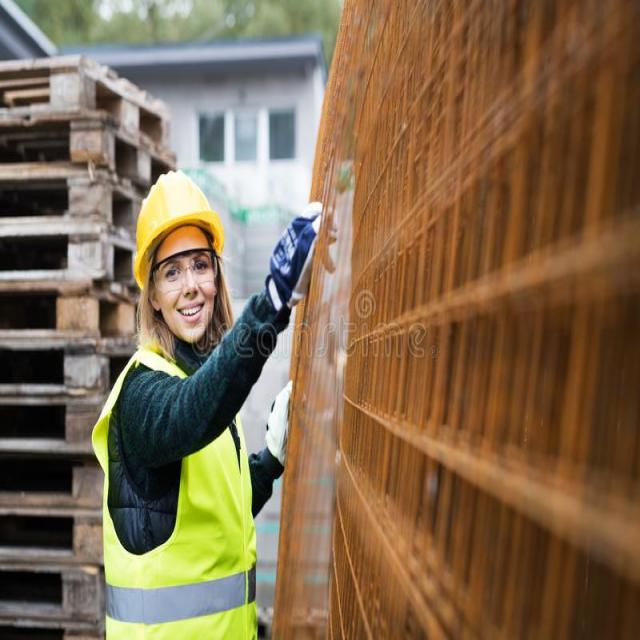Helmet: (120, 154, 226, 250)
Protective Glasses: (145, 242, 231, 307)
Vest: (88, 337, 271, 640)
